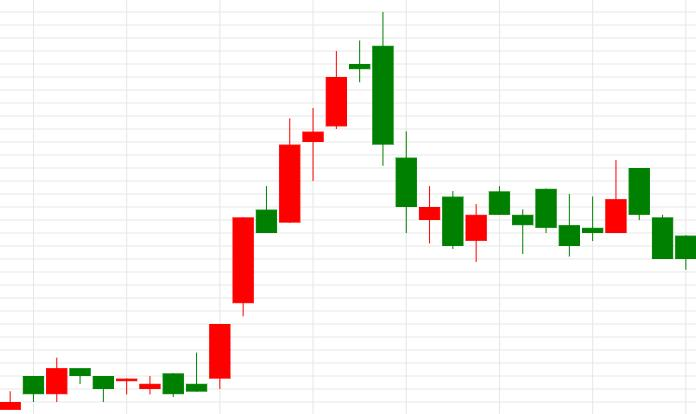evening_star_fall: (208, 12, 394, 389)
